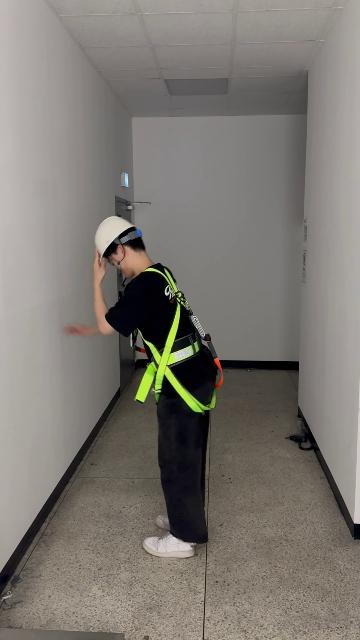helmet_worn: (94, 215, 137, 261)
shoe_not_worn: (142, 531, 197, 558), (154, 513, 171, 530)
vest_worn: (131, 269, 219, 410)
